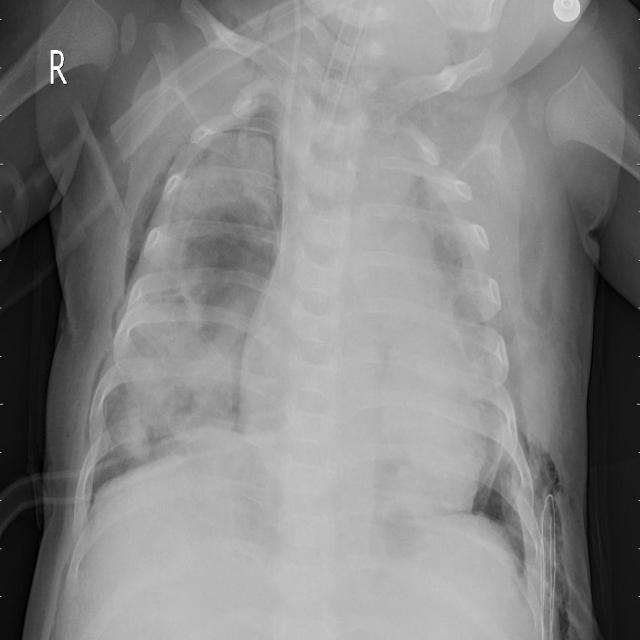high-pneumonia: (183, 82, 286, 261), (89, 336, 205, 475), (455, 252, 521, 495), (130, 220, 205, 326)
low-pneumonia: (186, 268, 265, 420)
